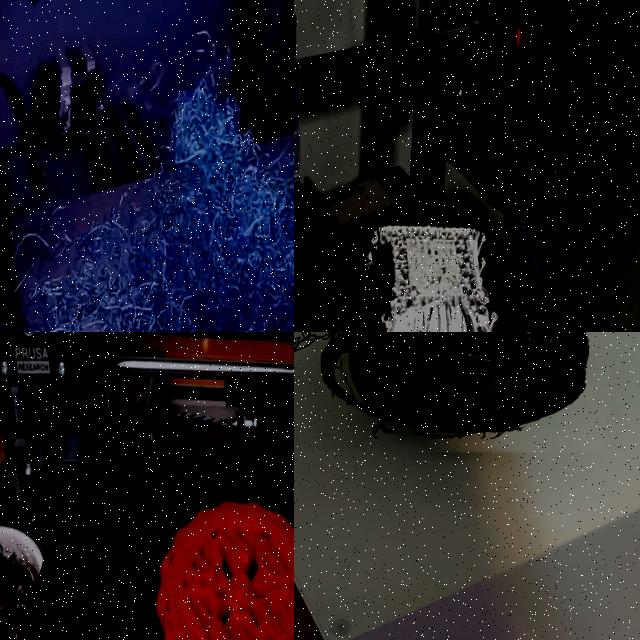spaghetti: (0, 29, 294, 332), (294, 332, 635, 465)
